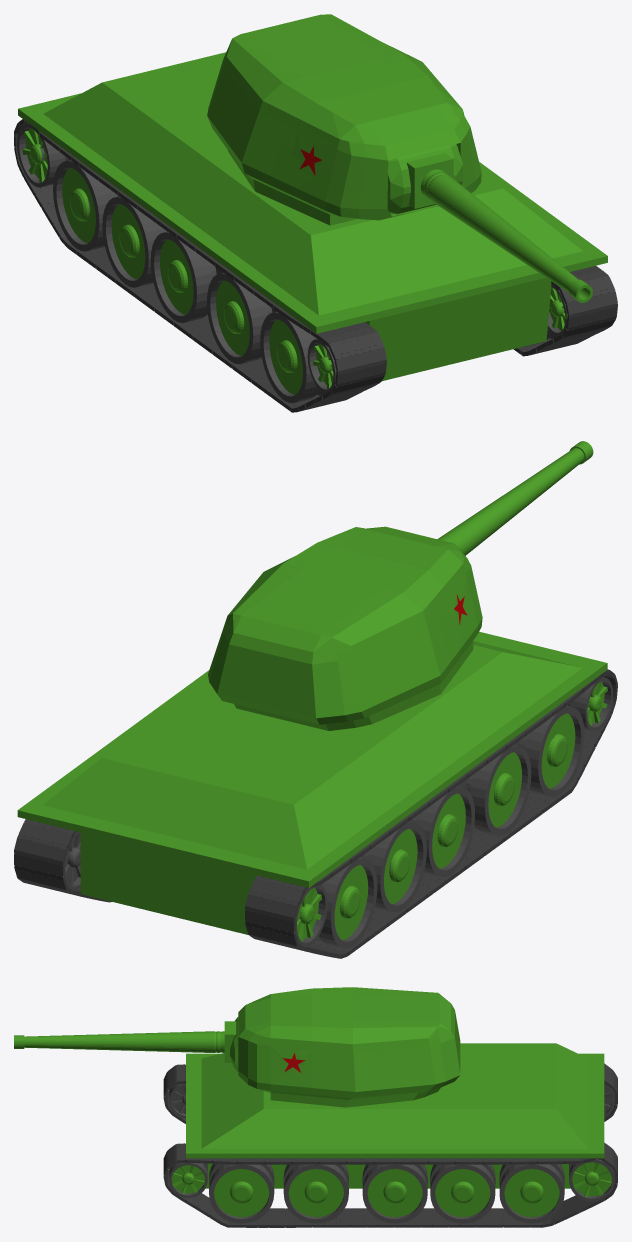
File: tank.glb
3 renders of one model, top to bottom at view 1: azimuth 30°, elevation 25°; view 2: azimuth 150°, elevation 25°; view 3: azimuth 270°, elevation 25°, orthographic. The views are drawn at different scales.
Parts seen in each view (by area): view 1: Cube.003, Cube.001, Cylinder, Cube.005, Cube.002, Cube.004; view 2: Cube.003, Cube.001, Cylinder, Cube.005, Cube.002, Cube.004; view 3: Cube.003, Cube.001, Cylinder, Cube.004, Cube.002, Cube.005.
Boxes of the visible parts, bbox=[...] form: Cube.003: bbox=[18, 52, 607, 381]; Cube.001: bbox=[207, 14, 481, 225]; Cylinder: bbox=[17, 123, 567, 403]; Cube.005: bbox=[14, 119, 386, 412]; Cube.002: bbox=[387, 144, 592, 302]; Cube.004: bbox=[513, 266, 617, 356]; Cube.003: bbox=[17, 631, 607, 934]; Cube.001: bbox=[208, 526, 482, 730]; Cylinder: bbox=[64, 677, 612, 948]; Cube.005: bbox=[245, 669, 617, 958]; Cube.002: bbox=[437, 441, 593, 555]; Cube.004: bbox=[14, 819, 111, 902]; Cube.003: bbox=[186, 1043, 604, 1188]; Cube.001: bbox=[238, 987, 460, 1107]; Cylinder: bbox=[169, 1083, 615, 1223]; Cube.004: bbox=[163, 1142, 617, 1227]; Cube.002: bbox=[14, 1017, 238, 1071]; Cube.005: bbox=[163, 1063, 617, 1123].
Bounding box in the file's own units: 10.56 × 8.5 × 27.03.
